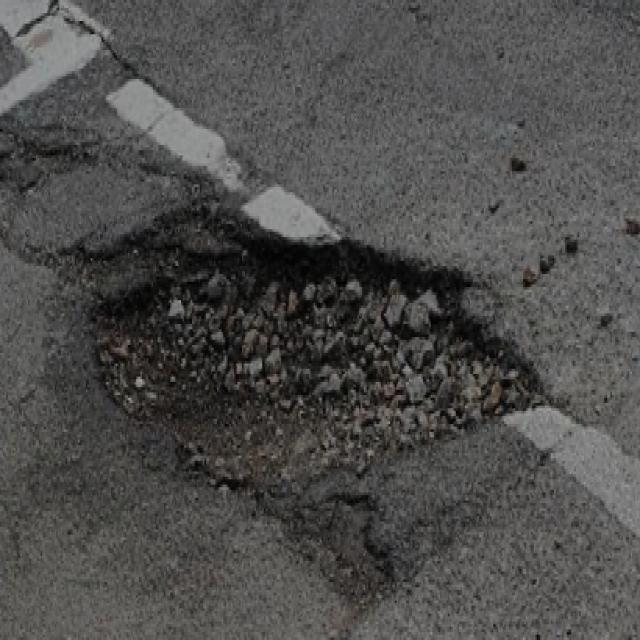pothole: (84, 198, 548, 523)
